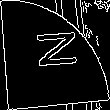N_W: (30, 33, 80, 77)
